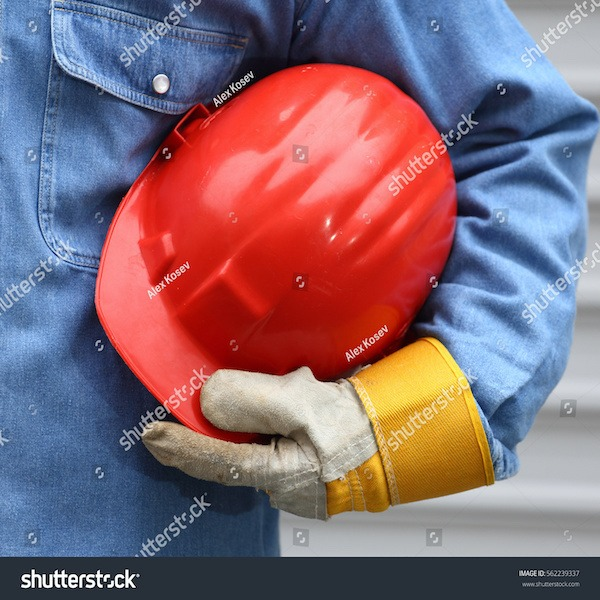helmet: (97, 66, 461, 410)
